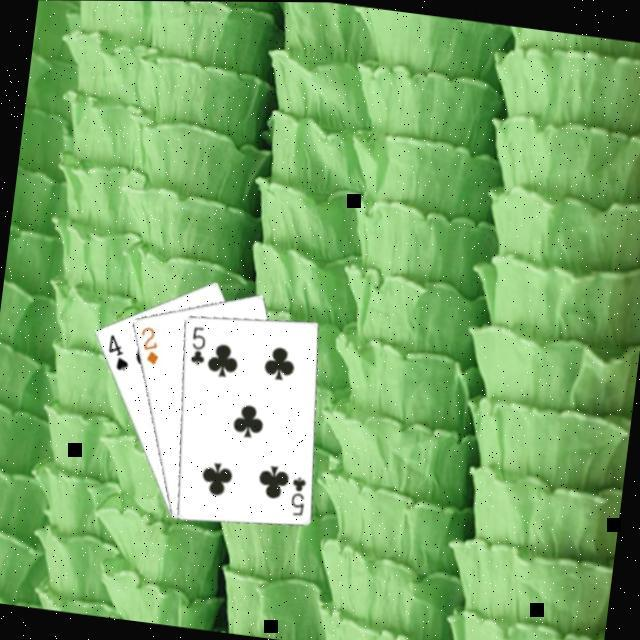2D: (134, 324, 164, 368)
4S: (102, 331, 134, 374)
5C: (285, 472, 310, 519), (186, 322, 210, 368)
